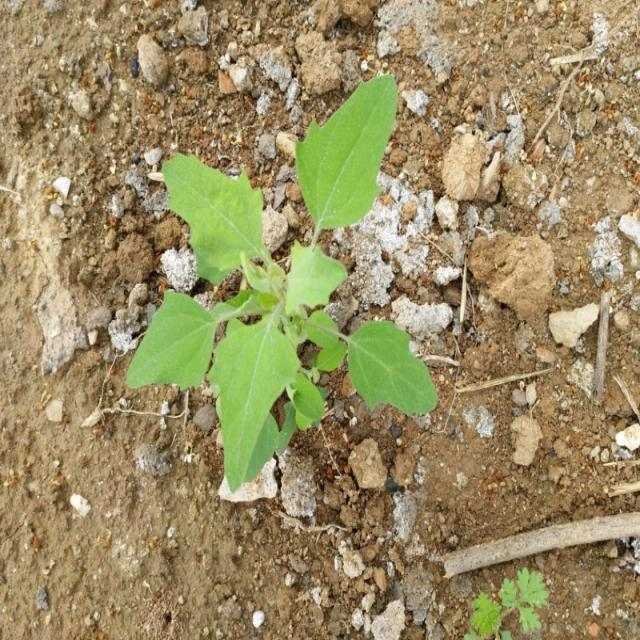ca: (125, 75, 440, 489)
